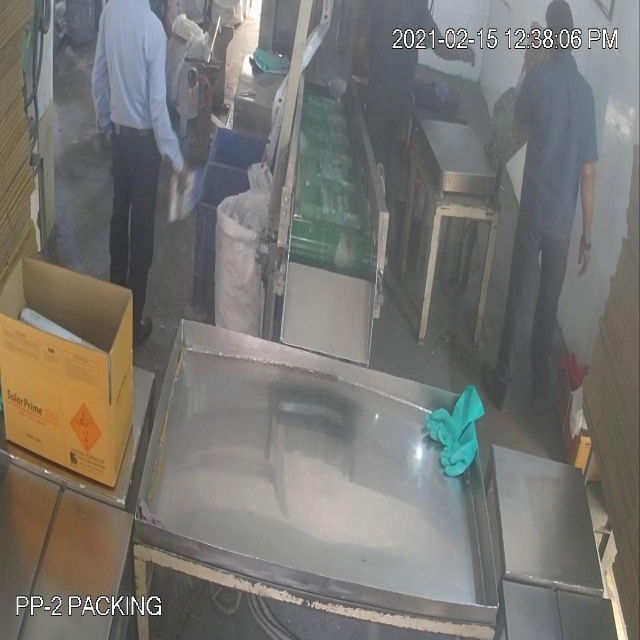Sin_guantes: (146, 36, 192, 202), (576, 138, 599, 293)
